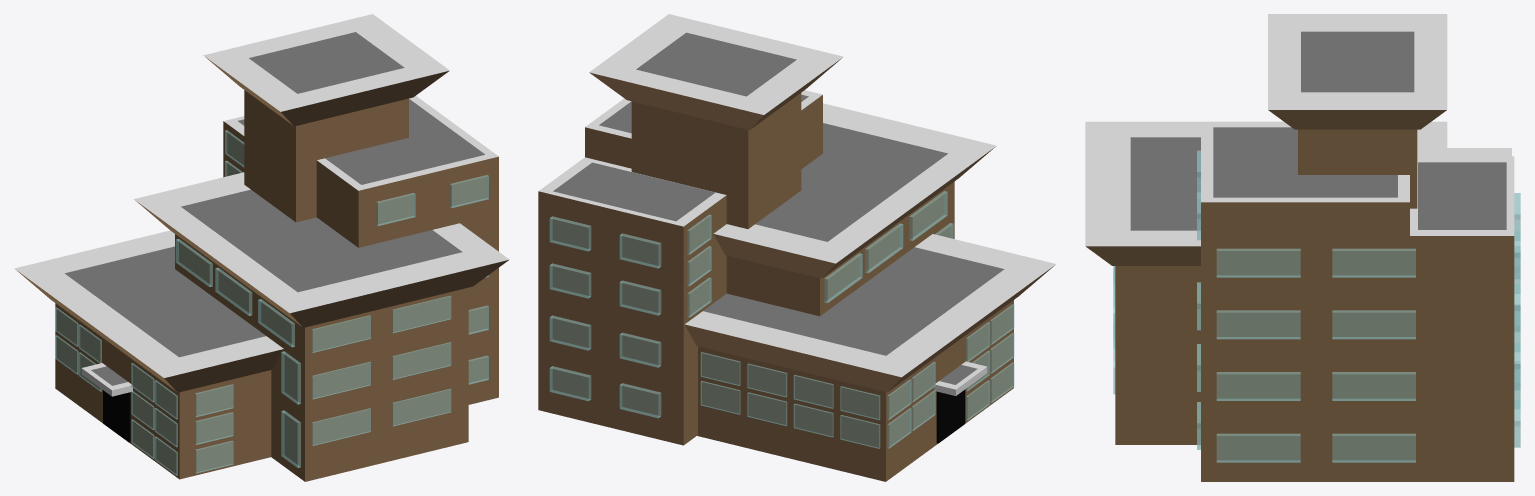
File: NEXT TO ITC.fbx
The picture shows the model from 3 angles, left to right: view 1: azimuth 30°, elevation 25°; view 2: azimuth 150°, elevation 25°; view 3: azimuth 270°, elevation 25°; orthographic projection. The views are drawn at different scales.
Visible parts, largest first — view 1: pCube190; view 2: pCube190; view 3: pCube190.
Boxes of the visible parts, x1,y1,x2,y2 form: pCube190: (14, 14, 509, 481); pCube190: (538, 14, 1055, 481); pCube190: (1085, 14, 1520, 481).
Size of the model in its own units: 59.04 by 49.6 by 54.09.
